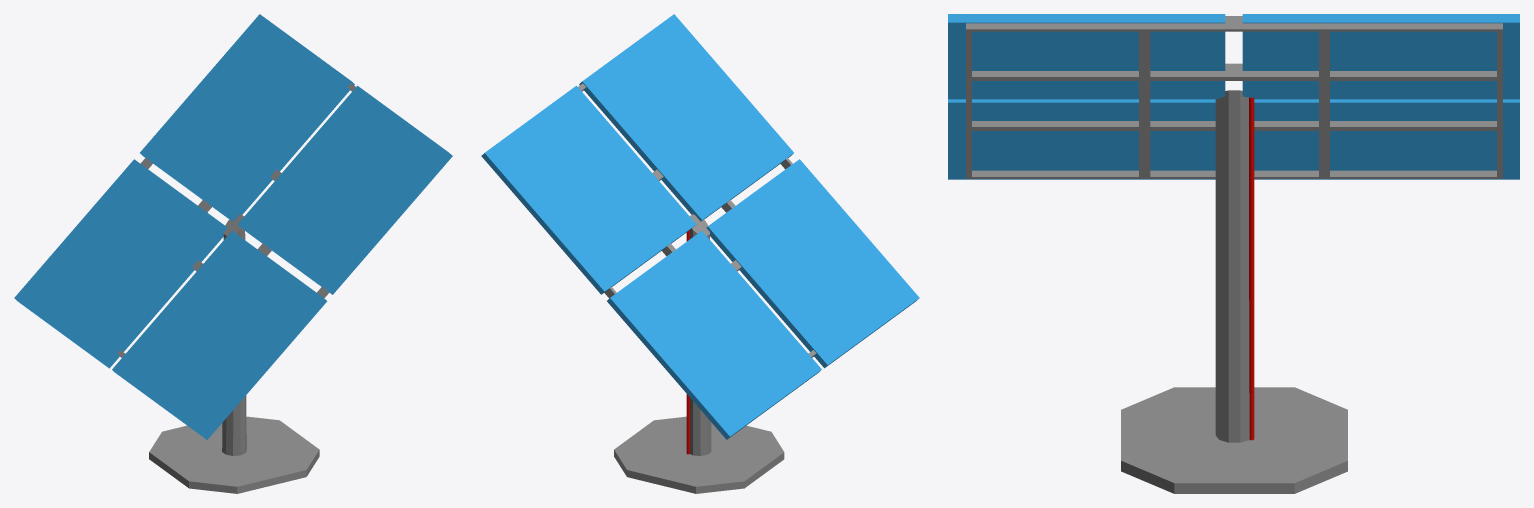
The model's file is heliostat.glb.
The picture shows the model from 3 angles, left to right: view 1: azimuth 30°, elevation 25°; view 2: azimuth 150°, elevation 25°; view 3: azimuth 270°, elevation 25°; orthographic projection. The views are drawn at different scales.
Parts seen in each view (by area): view 1: Plane.003, Cube, Cylinder, Cube.001; view 2: Plane.003, Cube, Cylinder, Cube.001; view 3: Plane.003, Cube.001, Cube, Cylinder, Cylinder.001.
Boxes of the visible parts, bbox=[...] form: Plane.003: bbox=[14, 14, 452, 439]; Cube: bbox=[149, 416, 319, 493]; Cylinder: bbox=[222, 214, 246, 455]; Cube.001: bbox=[117, 83, 355, 357]; Plane.003: bbox=[481, 14, 919, 439]; Cube: bbox=[614, 416, 784, 493]; Cylinder: bbox=[690, 214, 711, 455]; Cube.001: bbox=[578, 83, 816, 357]; Plane.003: bbox=[948, 14, 1519, 179]; Cube.001: bbox=[966, 16, 1502, 178]; Cube: bbox=[1121, 387, 1347, 493]; Cylinder: bbox=[1215, 90, 1249, 442]; Cylinder.001: bbox=[1249, 97, 1254, 440].
Bounding box in the file's own units: 1.42 × 1.88 × 1.87.
